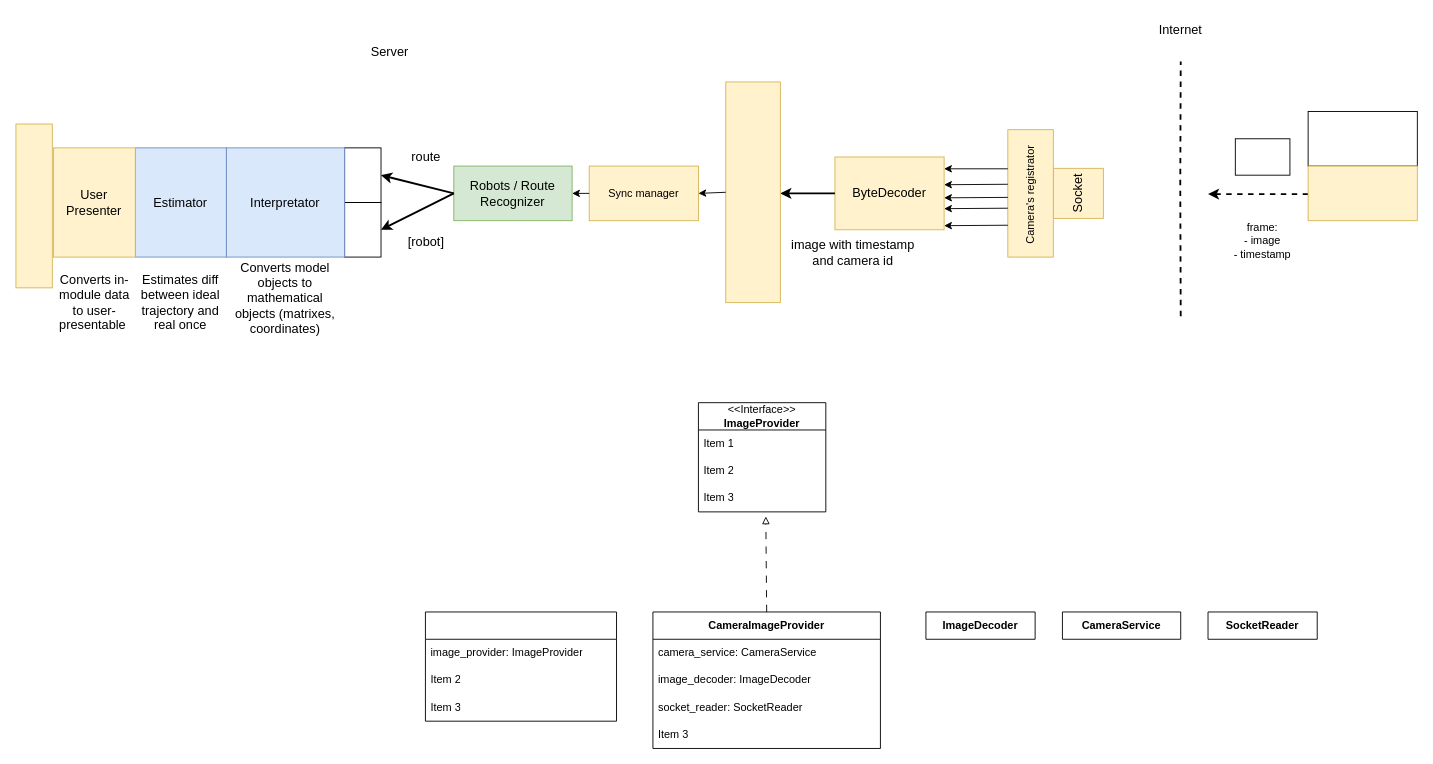
This 1433x764 diagram has some shape labels left out. The box of each missing label's shape, as (x1, y1, x2, y2) in pixels:
Camera: (1307, 111, 1417, 166)
Client: (1307, 165, 1417, 221)
Display: (15, 123, 52, 288)
frame: (1234, 138, 1290, 175)
ImageBuffer: (425, 611, 617, 721)
Images buffer: (725, 81, 780, 303)
